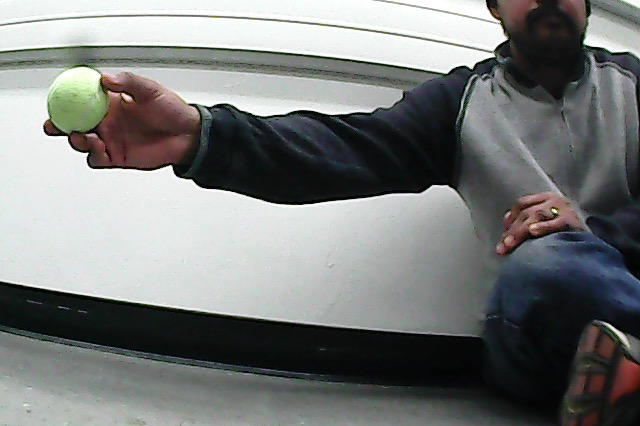ball: (43, 66, 114, 140)
